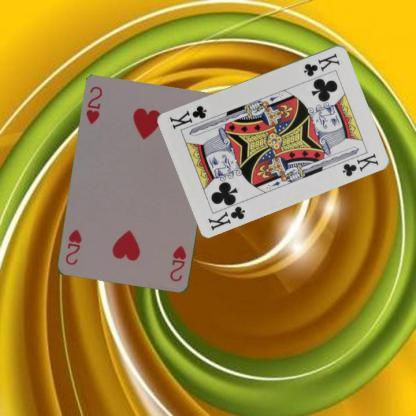2h: (167, 242, 188, 284), (84, 84, 104, 126)
Kc: (205, 203, 247, 232), (300, 51, 342, 78)
